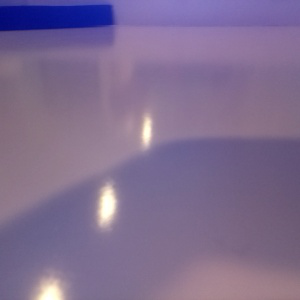zone: (1, 4, 115, 30)
